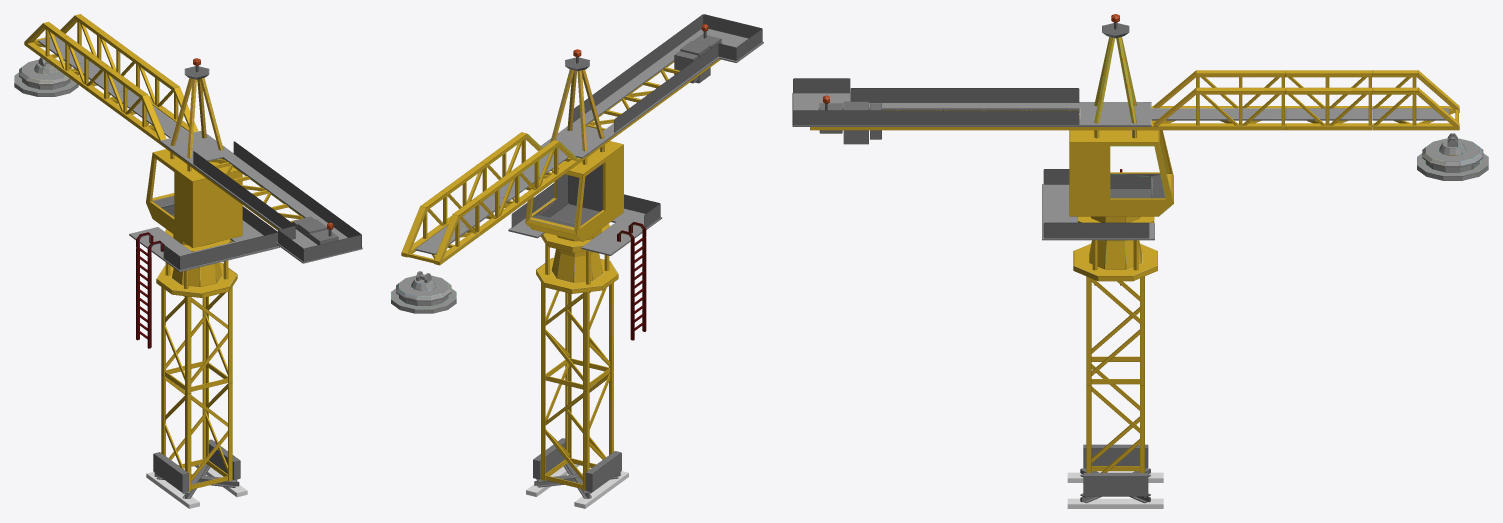
The model's file is Crane.fbx.
3 views of the same model, side by side, from view 1: azimuth 30°, elevation 25°; view 2: azimuth 150°, elevation 25°; view 3: azimuth 270°, elevation 25° (orthographic). The views are drawn at different scales.
Parts seen in each view (by area): view 1: Cart, Fence_Back, Walkway_Back, BaseBars_Middle, BaseBars_Bottom, Bars_Back, Base_Cylinder, Fence_Platform, Bars_Middle, Base_Top, Magnet, Bars_Front (+9 smaller); view 2: Cart, Fence_Back, Walkway_Back, BaseBars_Bottom, BaseBars_Middle, Base_Cylinder, Bars_Front, Bars_Back, Bars_Middle, Magnet, Base_Top, RotatingBase_Platform (+10 smaller); view 3: Fence_Back, Cart, Walkway_Back, Base_Cylinder, Bars_Middle, Bars_Back, Bars_Front, BarsBottom_Side, BaseBars_Middle, Weights_Bottom, Magnet, Fence_Platform (+6 smaller).
Part boxes in pixels (bbox=[...]): Cart: bbox=[146, 149, 242, 247]; Fence_Back: bbox=[193, 141, 361, 261]; Walkway_Back: bbox=[111, 89, 362, 263]; BaseBars_Middle: bbox=[161, 287, 232, 393]; BaseBars_Bottom: bbox=[161, 366, 232, 490]; Bars_Back: bbox=[102, 57, 197, 140]; Base_Cylinder: bbox=[156, 229, 237, 297]; Fence_Platform: bbox=[163, 206, 277, 269]; Bars_Middle: bbox=[63, 29, 139, 101]; Base_Top: bbox=[170, 65, 223, 171]; Magnet: bbox=[14, 57, 78, 96]; Bars_Front: bbox=[24, 14, 100, 72]; Cart: bbox=[525, 141, 623, 241]; Fence_Back: bbox=[573, 14, 762, 132]; Walkway_Back: bbox=[492, 28, 763, 200]; BaseBars_Bottom: bbox=[541, 363, 613, 490]; BaseBars_Middle: bbox=[541, 282, 613, 391]; Base_Cylinder: bbox=[536, 223, 618, 293]; Bars_Front: bbox=[401, 191, 479, 265]; Bars_Back: bbox=[481, 132, 578, 203]; Bars_Middle: bbox=[441, 162, 518, 236]; Magnet: bbox=[391, 271, 456, 313]; Base_Top: bbox=[550, 56, 604, 164]; RotatingBase_Platform: bbox=[508, 197, 661, 255]; Fence_Back: bbox=[793, 78, 1079, 124]; Cart: bbox=[1069, 115, 1173, 216]; Walkway_Back: bbox=[792, 93, 1285, 126]; Base_Cylinder: bbox=[1073, 216, 1157, 281]; Bars_Middle: bbox=[1286, 70, 1372, 130]; Bars_Back: bbox=[1153, 70, 1285, 126]; Bars_Front: bbox=[1372, 70, 1459, 130]; BarsBottom_Side: bbox=[810, 106, 1285, 130]; BaseBars_Middle: bbox=[1086, 276, 1144, 385]; Weights_Bottom: bbox=[1083, 444, 1148, 496]; Magnet: bbox=[1417, 133, 1488, 180]; Fence_Platform: bbox=[1043, 169, 1149, 238].
Size of the model in its own units: 511 by 1928 by 2544.
1 material, 1 textured.
